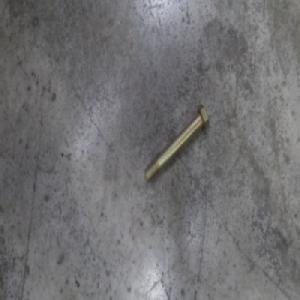Bolt: (143, 103, 209, 185)
